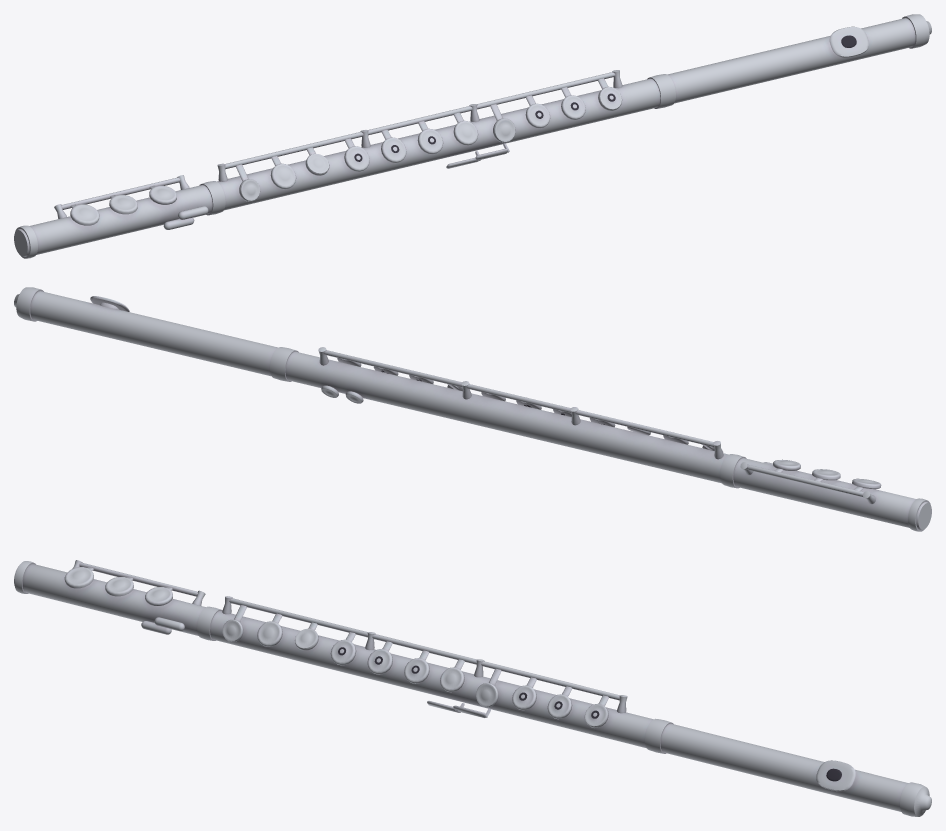
The model's file is flute.glb.
3 views of the same model, one above another, from view 1: azimuth 30°, elevation 25°; view 2: azimuth 150°, elevation 25°; view 3: azimuth 330°, elevation 25° (orthographic).
Parts seen in each view (by area): view 1: flute_body; view 2: flute_body; view 3: flute_body.
Part boxes in pixels (x1,y1,x2,y2): flute_body: (14,14,931,258); flute_body: (14,287,931,531); flute_body: (14,560,931,816).
Bounding box in the file's own units: 0.6685 × 0.0336 × 0.0332.
Materials: 1 (1 with a texture image).
